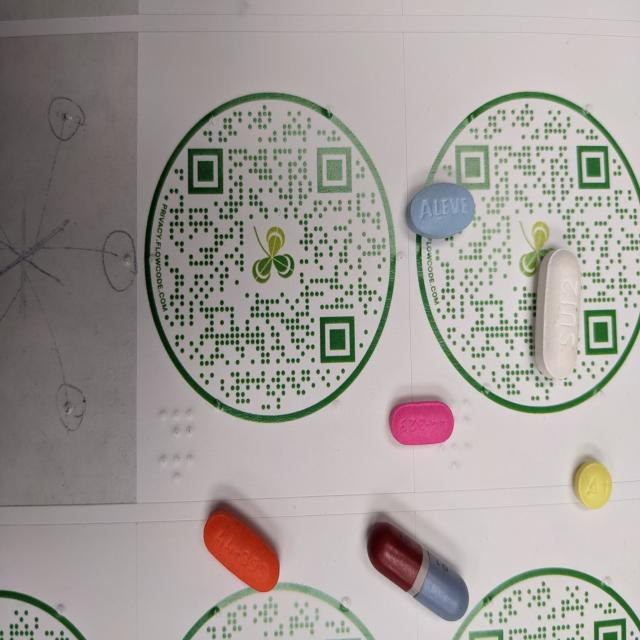non-organic waste: (366, 519, 470, 622), (202, 507, 282, 595), (533, 247, 582, 380), (406, 182, 476, 239), (388, 399, 456, 446), (573, 458, 613, 510)
